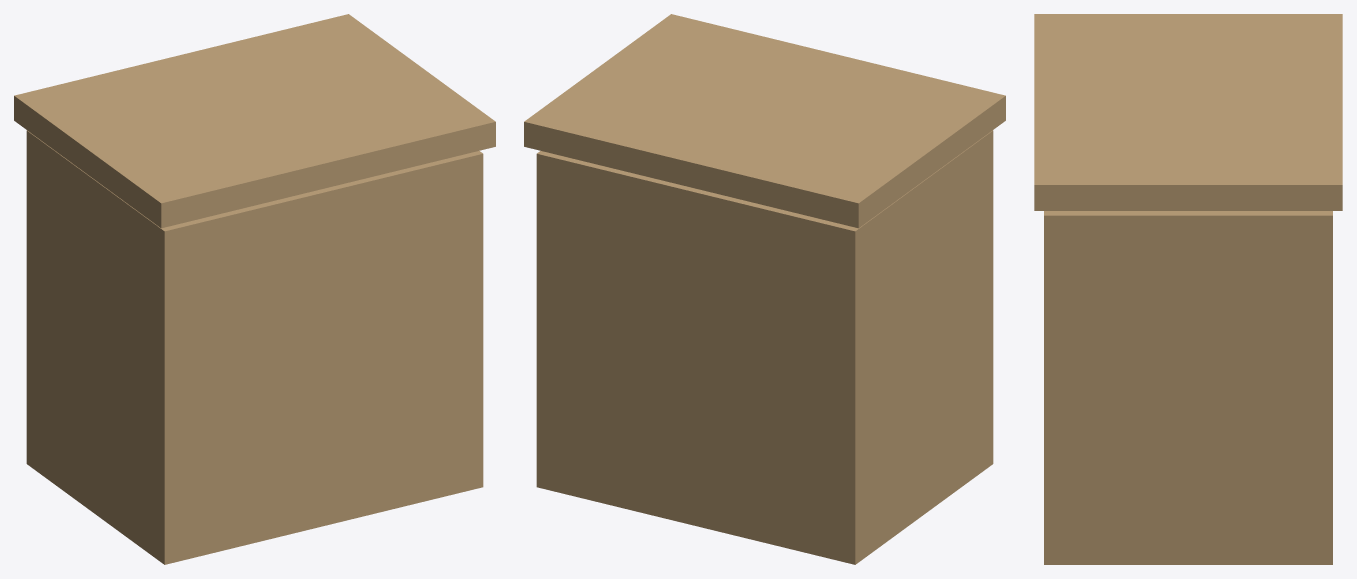
Rendered from s2-crate_v2.glb.
3 views of the same model, side by side, from view 1: azimuth 30°, elevation 25°; view 2: azimuth 150°, elevation 25°; view 3: azimuth 270°, elevation 25° (orthographic). The views are drawn at different scales.
Parts seen in each view (by area): view 1: Crate, Lid; view 2: Crate, Lid; view 3: Crate, Lid.
Boxes of the visible parts, bbox=[...] form: Crate: bbox=[26, 130, 483, 564]; Lid: bbox=[14, 14, 495, 228]; Crate: bbox=[536, 130, 993, 564]; Lid: bbox=[524, 14, 1005, 228]; Crate: bbox=[1044, 211, 1332, 564]; Lid: bbox=[1034, 14, 1342, 210].
Size of the model in its own units: 0.84 by 0.88 by 0.64.
